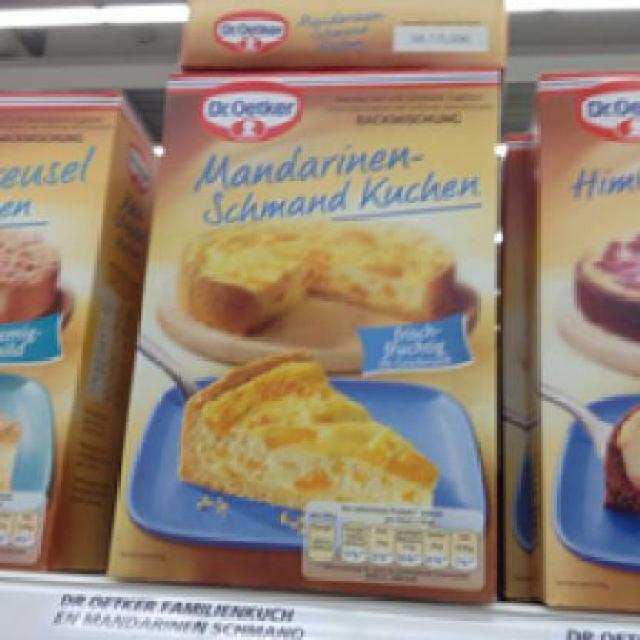Cake: (106, 63, 492, 606), (497, 66, 632, 620)
